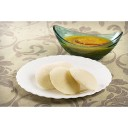idly: (50, 68, 80, 93), (69, 66, 100, 89), (34, 66, 57, 89)
